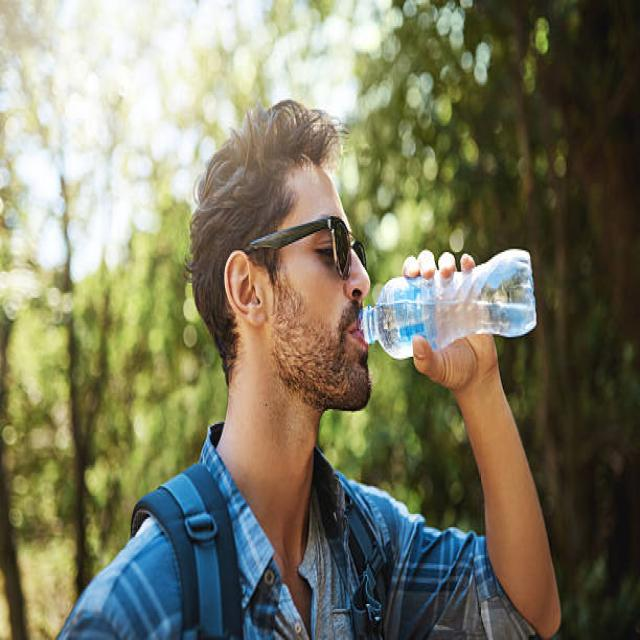bottle: (361, 249, 538, 362)
